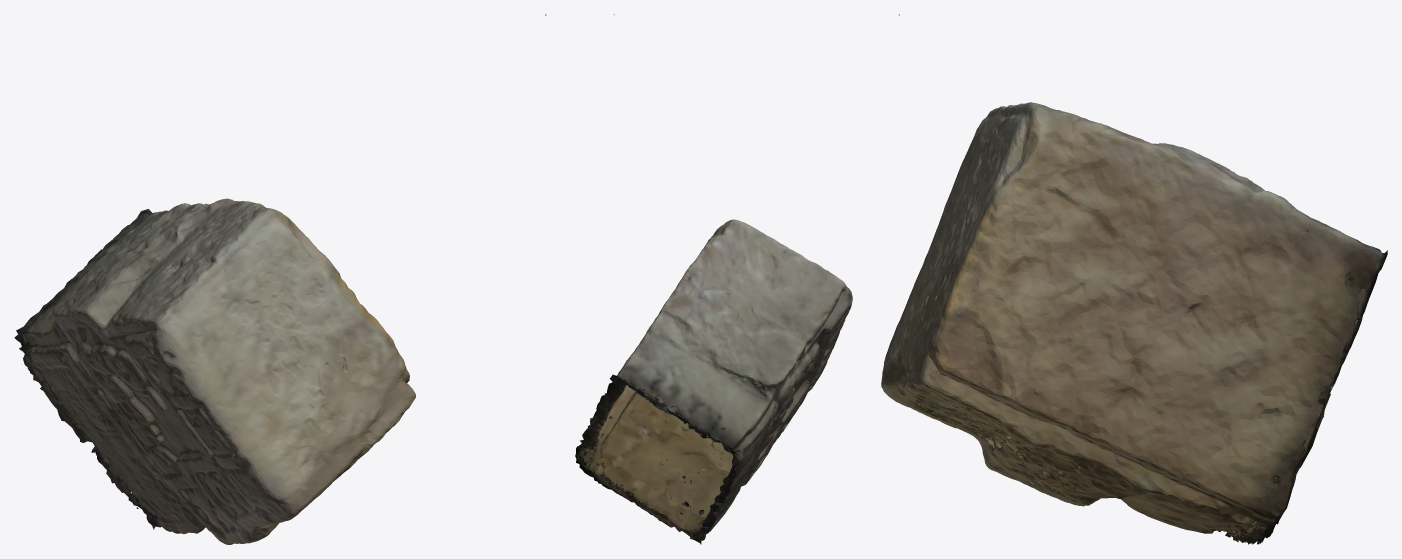
The model's file is chairleg.obj.
3 renders of one model, left to right at view 1: azimuth 30°, elevation 25°; view 2: azimuth 150°, elevation 25°; view 3: azimuth 270°, elevation 25°, orthographic. The views are drawn at different scales.
Bounding box in the file's own units: 5.34 × 7.82 × 5.29.
Materials: 1 (1 with a texture image).
